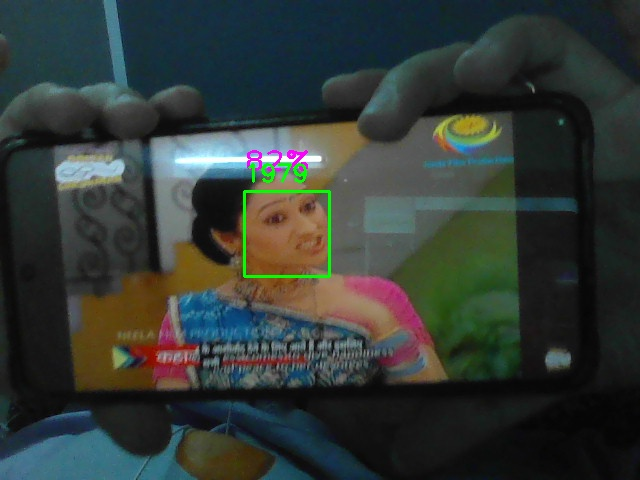fake: (244, 191, 330, 277)
